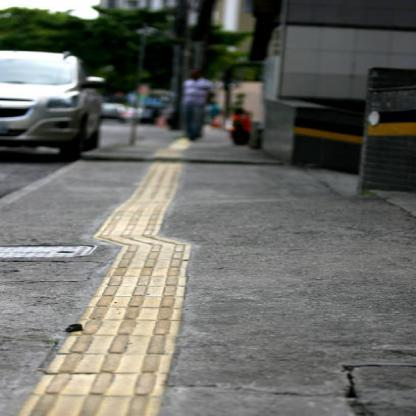podotacti: (19, 169, 196, 415)
